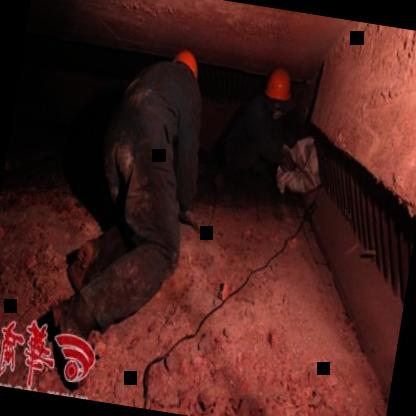helmet: (257, 62, 299, 122), (162, 42, 203, 96)
